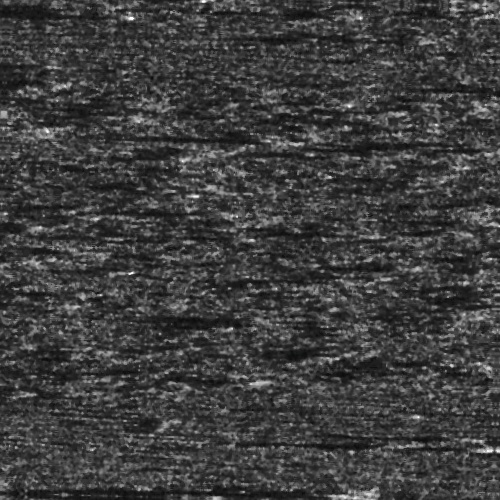object: (332, 482, 405, 499), (7, 494, 90, 500), (478, 439, 500, 444)
shadow: (0, 482, 368, 499), (191, 439, 406, 442), (0, 494, 49, 500), (446, 439, 498, 444)
